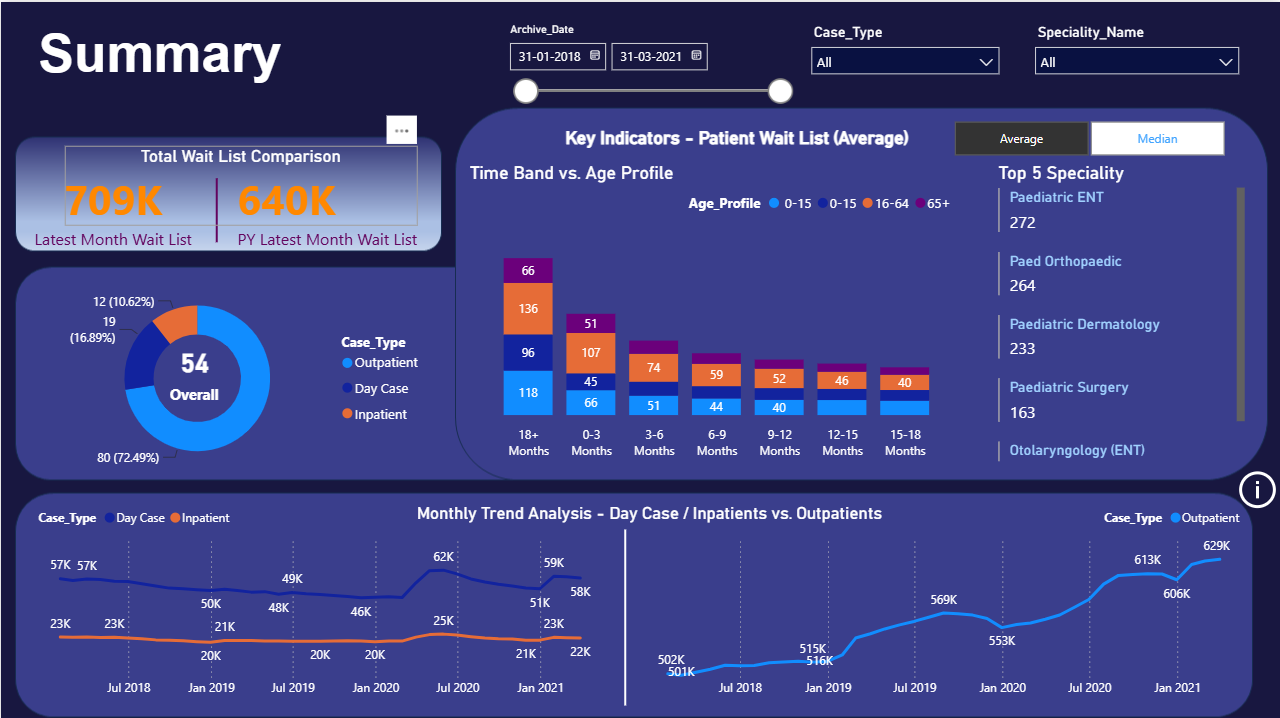

Layout of this report page (visuals, bound fields, positions):
{"tool":"powerbi","page":{"name":"Summary","canvas":[1280,720],"ordinal":0},"visuals":[{"type":"cardVisual","fields":{"Data":["All_Data.Latest Month Wait List"]},"box":[16,144,192,128],"z":0},{"type":"cardVisual","fields":{"Data":["All_Data.PY Latest Month Wait List"]},"box":[208,144,240,128],"z":1000},{"type":"slicer","fields":{"Values":["Calculation Method.Calc Method"]},"box":[928,112,320,48],"z":2000},{"type":"donutChart","fields":{"Category":["All_Data.Case_Type"],"Y":["All_Data.Avg/Med wait List"]},"box":[48,272,384,208],"z":3000},{"type":"columnChart","title":"Time Band vs. Age Profile","fields":{"Category":["All_Data.Time_Bands"],"Series":["All_Data.Age_Profile"],"Y":["All_Data.Avg/Med wait List"]},"box":[464,160,496,304],"z":4000},{"type":"multiRowCard","title":"Top 5 Speciality","fields":{"Values":["All_Data.Avg/Med wait List","All_Data.Speciality_Name"]},"box":[992,160,256,304],"z":5000},{"type":"card","fields":{"Values":["All_Data.NoDataLeft"]},"box":[128,544,352,112],"z":6000},{"type":"lineChart","fields":{"Category":["All_Data.Archive_Date"],"Series":["All_Data.Case_Type"],"Y":["Sum(All_Data.Total)"]},"box":[32,496,576,208],"z":7000},{"type":"card","fields":{"Values":["All_Data.NoDataRight"]},"box":[768,544,352,112],"z":8000},{"type":"lineChart","fields":{"Category":["All_Data.Archive_Date"],"Series":["All_Data.Case_Type"],"Y":["Sum(All_Data.Total)"]},"box":[640,496,608,208],"z":9000},{"type":"textbox","box":[32,16,336,96],"z":10000},{"type":"slicer","fields":{"Values":["All_Data.Archive_Date"]},"box":[496,16,304,96],"z":11000},{"type":"slicer","fields":{"Values":["All_Data.Case_Type"]},"box":[800,16,208,80],"z":12000},{"type":"slicer","fields":{"Values":["All_Data.Speciality_Name"]},"box":[1024,16,224,80],"z":13000},{"type":"card","fields":{"Values":["All_Data.Dynamic Title"]},"box":[480,96,512,80],"z":14000},{"type":"shape","box":[64,176,304,64],"z":15000},{"type":"textbox","title":"Total Wait List Comparison","box":[64,144,352,80],"z":16000},{"type":"textbox","box":[352,496,592,32],"z":17000},{"type":"shape","box":[416,528,416,176],"z":18000},{"type":"card","fields":{"Values":["All_Data.Avg/Med wait List"]},"box":[138,330,112,80],"z":19000},{"type":"actionButton","box":[1232,464,48,48],"z":20000}]}

Visuals, with their boxes in screenshot pixels (x1, y1, x2, y2), scaled from the page's 1280x720 canvas onto the 1280x718 screenshot:
cardVisual - All_Data.Latest Month Wait List: (left=16, top=144, right=208, bottom=271)
cardVisual - All_Data.PY Latest Month Wait List: (left=208, top=144, right=448, bottom=271)
slicer - Calculation Method.Calc Method: (left=928, top=112, right=1248, bottom=160)
donutChart - All_Data.Case_Type x All_Data.Avg/Med wait List: (left=48, top=271, right=432, bottom=479)
"Time Band vs. Age Profile" columnChart: (left=464, top=160, right=960, bottom=463)
"Top 5 Speciality" multiRowCard: (left=992, top=160, right=1248, bottom=463)
card - All_Data.NoDataLeft: (left=128, top=542, right=480, bottom=654)
lineChart - All_Data.Archive_Date x All_Data.Case_Type: (left=32, top=495, right=608, bottom=702)
card - All_Data.NoDataRight: (left=768, top=542, right=1120, bottom=654)
lineChart - All_Data.Archive_Date x All_Data.Case_Type: (left=640, top=495, right=1248, bottom=702)
textbox: (left=32, top=16, right=368, bottom=112)
slicer - All_Data.Archive_Date: (left=496, top=16, right=800, bottom=112)
slicer - All_Data.Case_Type: (left=800, top=16, right=1008, bottom=96)
slicer - All_Data.Speciality_Name: (left=1024, top=16, right=1248, bottom=96)
card - All_Data.Dynamic Title: (left=480, top=96, right=992, bottom=176)
shape: (left=64, top=176, right=368, bottom=239)
"Total Wait List Comparison" textbox: (left=64, top=144, right=416, bottom=223)
textbox: (left=352, top=495, right=944, bottom=527)
shape: (left=416, top=527, right=832, bottom=702)
card - All_Data.Avg/Med wait List: (left=138, top=329, right=250, bottom=409)
actionButton: (left=1232, top=463, right=1279, bottom=511)
